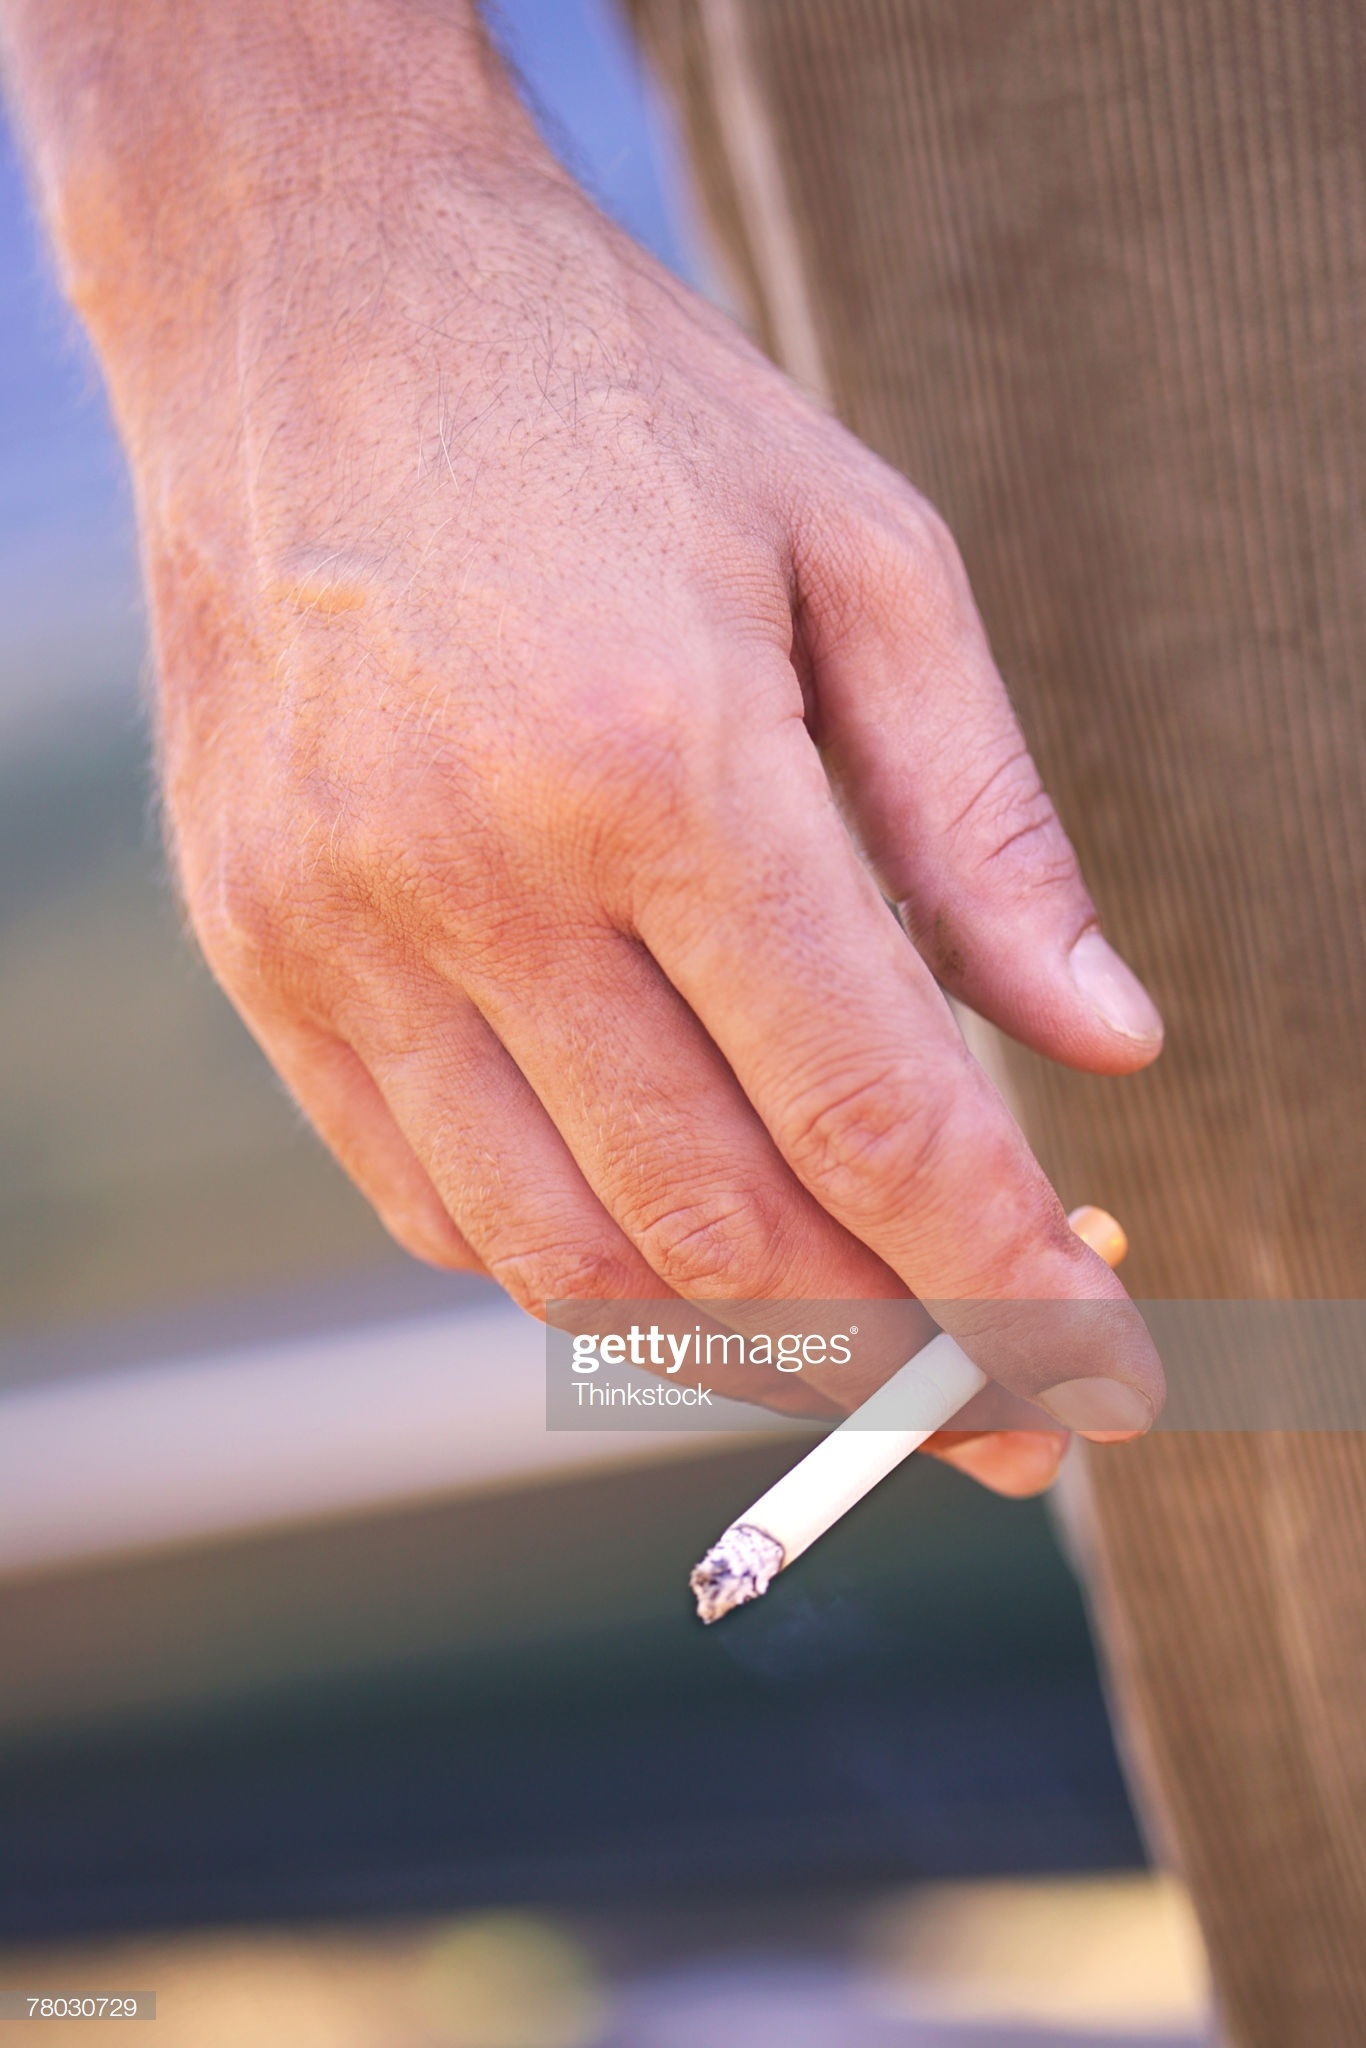sigaretta: (678, 1221, 1108, 1614)
